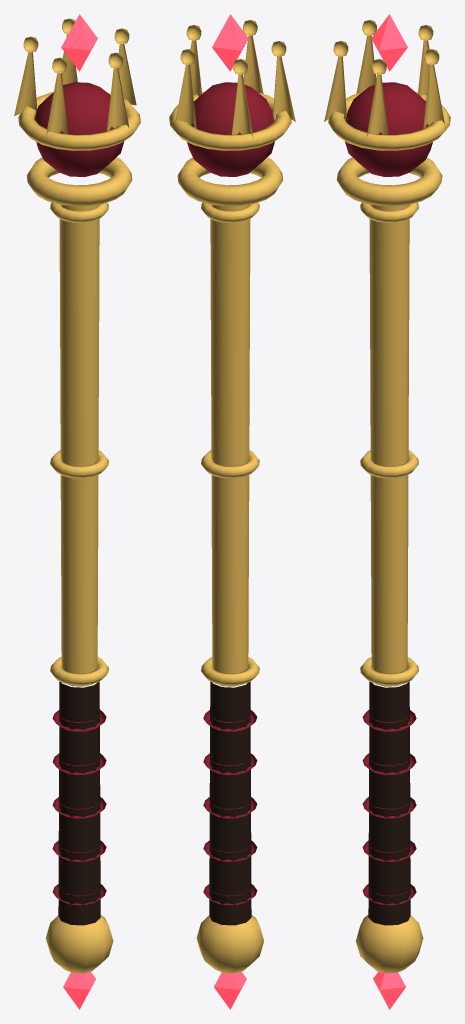
Rendered from scepter_3.glb.
3 renders of one model, left to right at view 1: azimuth 30°, elevation 25°; view 2: azimuth 210°, elevation 25°; view 3: azimuth 330°, elevation 25°, orthographic.
Parts seen in each view (by area): view 1: scepter_3; view 2: scepter_3; view 3: scepter_3.
Part boxes in pixels (x1,y1,x2,y2): scepter_3: (14, 14, 140, 1009); scepter_3: (169, 14, 295, 1009); scepter_3: (324, 14, 450, 1009).
Size of the model in its own units: 0.12 by 1.03 by 0.1179.
